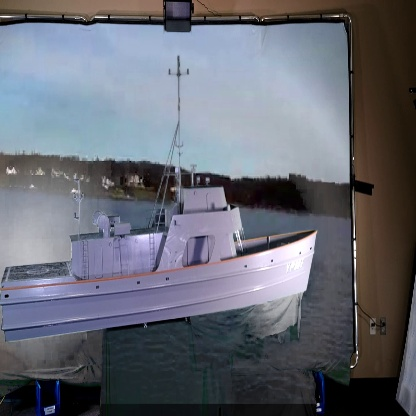YP689: (0, 58, 317, 344)
